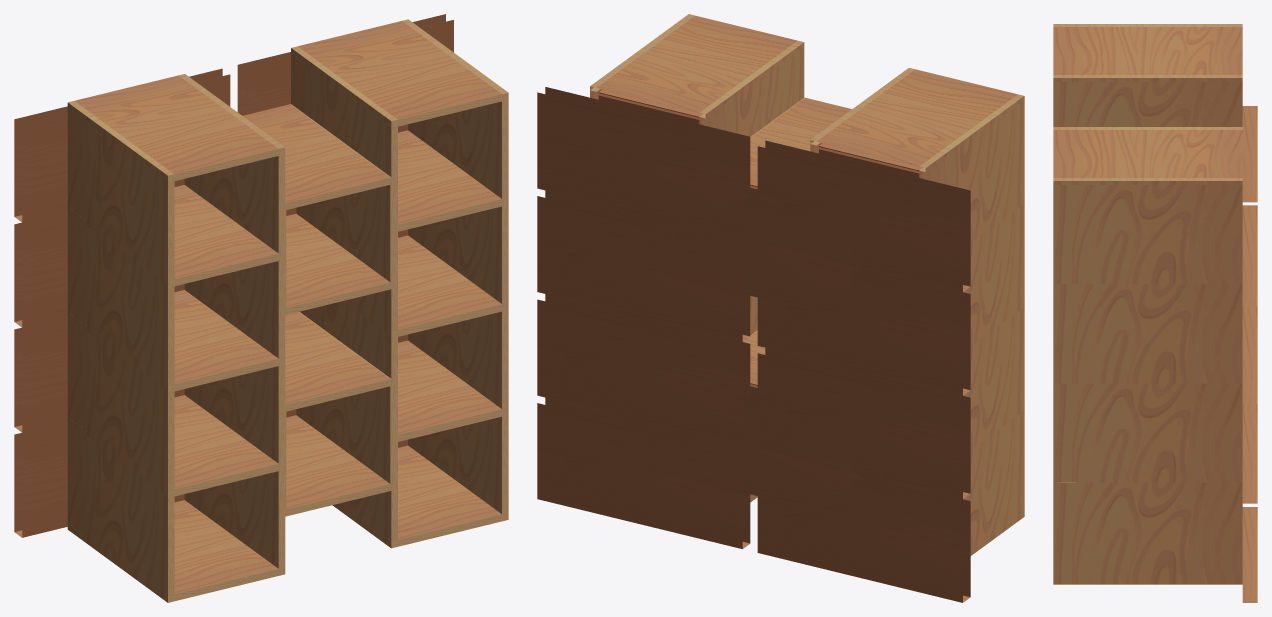
Rendered from layout_a_shape_10c.fbx.
The picture shows the model from 3 angles, left to right: view 1: azimuth 30°, elevation 25°; view 2: azimuth 150°, elevation 25°; view 3: azimuth 270°, elevation 25°; orthographic projection. The views are drawn at different scales.
Parts seen in each view (by area): view 1: Shelf-TM-00 9, Shelf-TM-00 2, Shelf-CL-01 9, Shelf-CL-01 7, Shelf-CL-01 4, Shelf-CL-01 8, Shelf-TM-00 6, Shelf-Back-00 (1) 9, Shelf-TM-00 3, Shelf-BM-00 4, Shelf-BM-00 6, Shelf-BM-00 3 (+34 smaller); view 2: Shelf-Back-00 (1) 7, Shelf-Back-00 (1) 2, Shelf-Back-00 (1) 9, Shelf-Back-00 (1), Shelf-Back-00 (1) 5, Shelf-Back-00 (1) 1, Shelf-Back-00 (1) 4, Shelf-Back-00 (1) 8, Shelf-Back-00 (1) 6, Shelf-Back-00 (1) 3, Shelf-TM-00 9, Shelf-TM-00 2 (+12 smaller); view 3: Shelf-CR-01, Shelf-CR-01 1, Shelf-CR-01 5, Shelf-CR-01 2, Shelf-TM-00 2, Shelf-TM-00 9, Shelf-CR-01 9, Shelf-Back-00 (1), Shelf-Back-00 (1) 1, Shelf-Back-00 (1) 9, Shelf-Back-00 (1) 2, Shelf-Back-00 (1) 5 (+11 smaller).
Part boxes in pixels (x1=…): Shelf-TM-00 9: x1=74, y1=75, x2=278, y2=180; Shelf-TM-00 2: x1=298, y1=21, x2=501, y2=126; Shelf-CL-01 9: x1=67, y1=107, x2=174, y2=280; Shelf-CL-01 7: x1=67, y1=317, x2=174, y2=490; Shelf-CL-01 4: x1=67, y1=422, x2=174, y2=595; Shelf-CL-01 8: x1=67, y1=212, x2=174, y2=385; Shelf-TM-00 6: x1=243, y1=104, x2=390, y2=209; Shelf-Back-00 (1) 9: x1=14, y1=68, x2=230, y2=222; Shelf-TM-00 3: x1=285, y1=312, x2=390, y2=411; Shelf-BM-00 4: x1=174, y1=500, x2=278, y2=600; Shelf-BM-00 6: x1=286, y1=213, x2=390, y2=314; Shelf-BM-00 3: x1=286, y1=415, x2=390, y2=516; Shelf-Back-00 (1) 7: x1=757, y1=347, x2=970, y2=499; Shelf-Back-00 (1) 2: x1=537, y1=87, x2=750, y2=238; Shelf-Back-00 (1) 9: x1=757, y1=140, x2=970, y2=292; Shelf-Back-00 (1): x1=537, y1=294, x2=750, y2=445; Shelf-Back-00 (1) 5: x1=537, y1=397, x2=750, y2=549; Shelf-Back-00 (1) 1: x1=537, y1=190, x2=750, y2=341; Shelf-Back-00 (1) 4: x1=757, y1=457, x2=970, y2=602; Shelf-Back-00 (1) 8: x1=757, y1=251, x2=970, y2=395; Shelf-Back-00 (1) 6: x1=647, y1=175, x2=860, y2=320; Shelf-Back-00 (1) 3: x1=647, y1=373, x2=860, y2=519; Shelf-TM-00 9: x1=817, y1=69, x2=1017, y2=173; Shelf-TM-00 2: x1=597, y1=15, x2=797, y2=119; Shelf-CR-01: x1=1053, y1=383, x2=1242, y2=478; Shelf-CR-01 1: x1=1053, y1=284, x2=1242, y2=379; Shelf-CR-01 5: x1=1053, y1=482, x2=1242, y2=577; Shelf-CR-01 2: x1=1053, y1=185, x2=1242, y2=279; Shelf-TM-00 2: x1=1053, y1=130, x2=1242, y2=177; Shelf-TM-00 9: x1=1053, y1=27, x2=1242, y2=74; Shelf-CR-01 9: x1=1053, y1=82, x2=1242, y2=126; Shelf-Back-00 (1): x1=1242, y1=407, x2=1257, y2=503; Shelf-Back-00 (1) 1: x1=1242, y1=308, x2=1257, y2=404; Shelf-Back-00 (1) 9: x1=1242, y1=106, x2=1257, y2=202; Shelf-Back-00 (1) 2: x1=1242, y1=209, x2=1257, y2=305; Shelf-Back-00 (1) 5: x1=1242, y1=507, x2=1257, y2=602.
Size of the model in its own units: 199 by 188 by 86.3.
